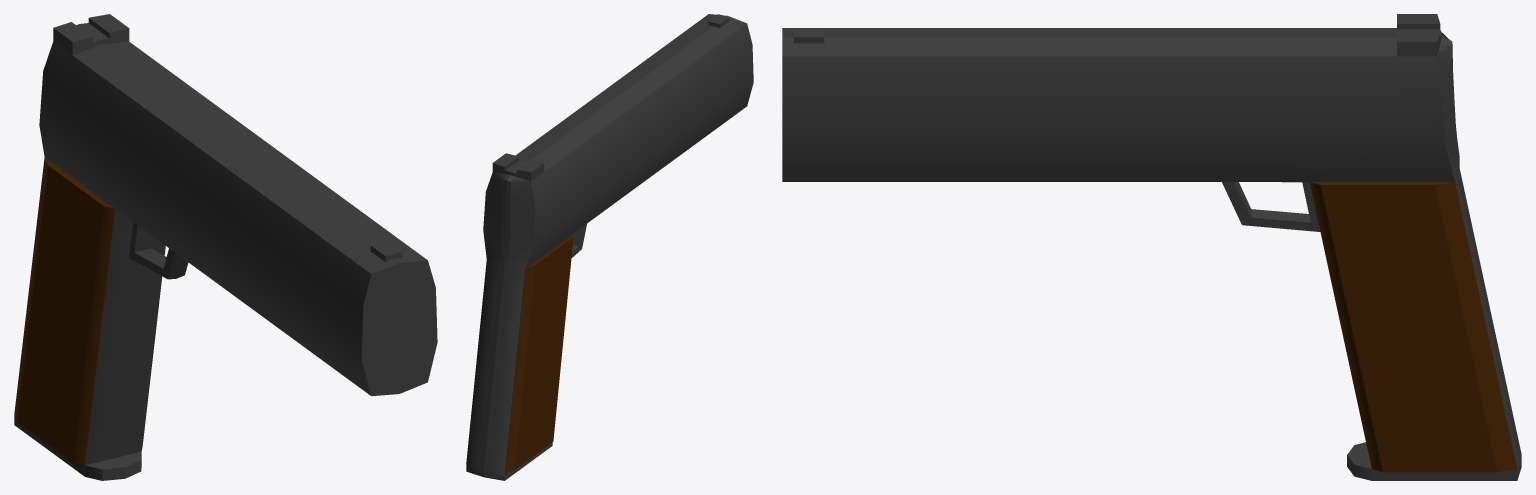
The model's file is Pistol.fbx.
3 renders of one model, left to right at view 1: azimuth 30°, elevation 25°; view 2: azimuth 150°, elevation 25°; view 3: azimuth 270°, elevation 25°, orthographic. The views are drawn at different scales.
Parts seen in each view (by area): view 1: polySurface1; view 2: polySurface1; view 3: polySurface1.
Part boxes in pixels (<box>): polySurface1: <box>14,14,437,480</box>; polySurface1: <box>466,14,753,480</box>; polySurface1: <box>782,14,1521,480</box>.
Size of the model in its own units: 32.98 by 177 by 270.
1 material, 1 textured.
